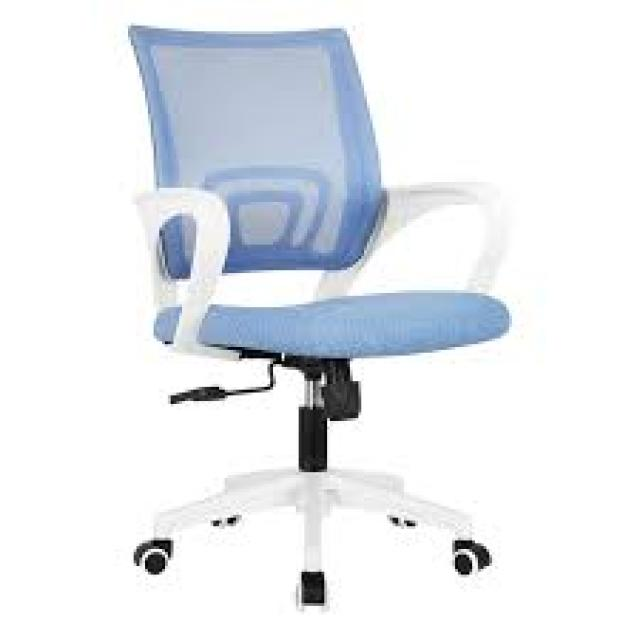chair: (51, 0, 560, 640)
